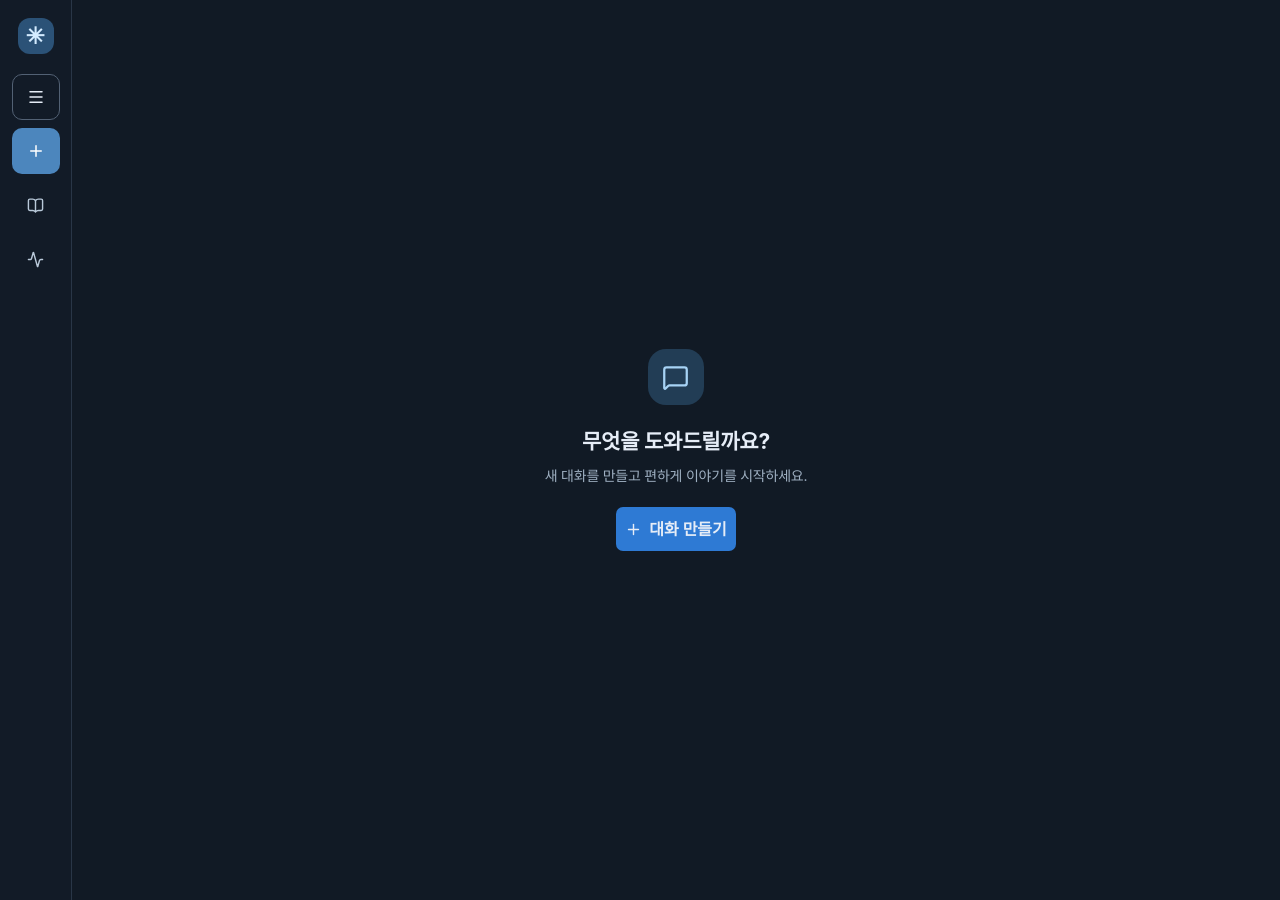
Scenario: opens the mobile navigation drawer and closes it after selecting Wiki
The width and height of the screenshot is (1280, 900).
Click the button named "메뉴 열기" at point(36, 97), box top-left (12, 74), bottom-right (60, 120)
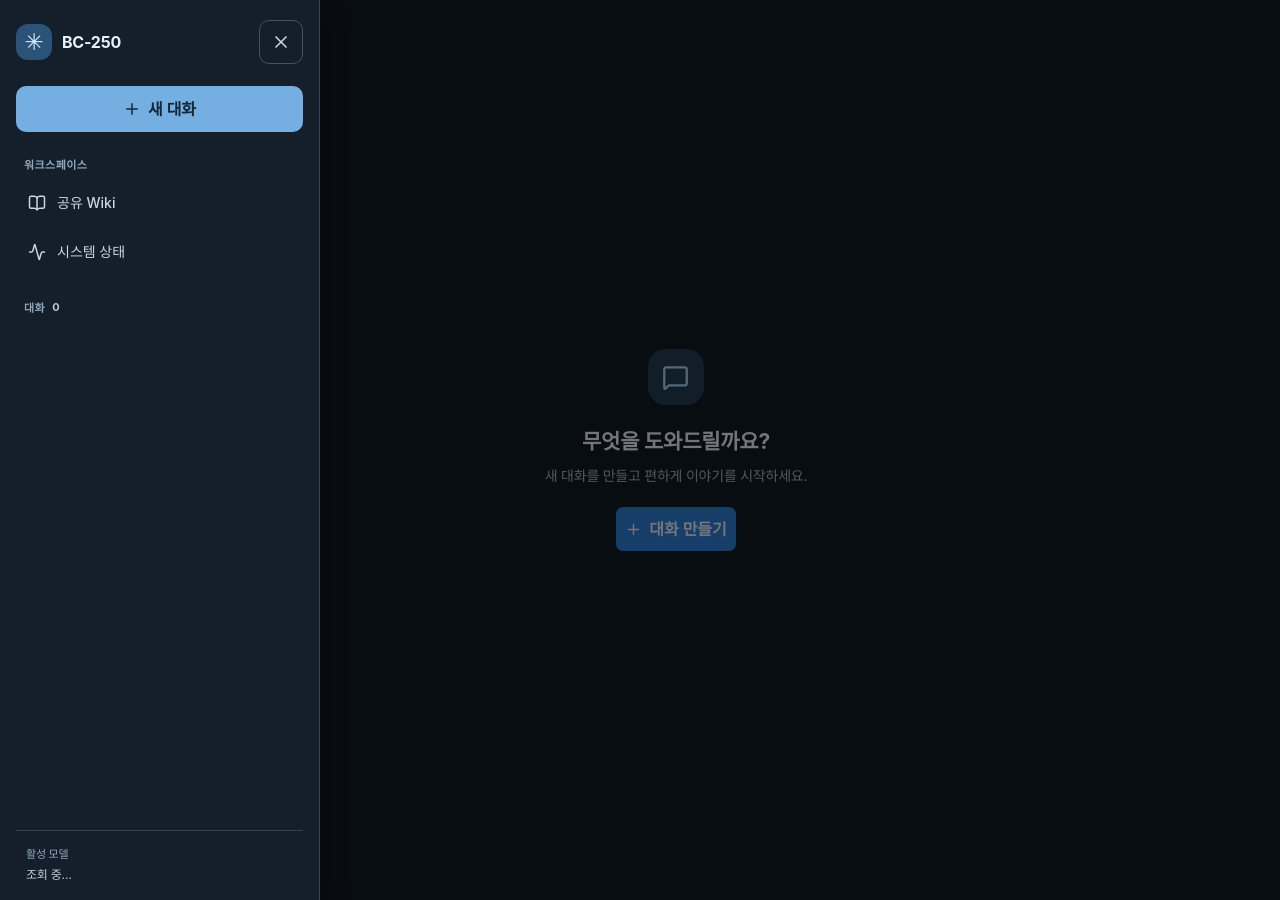
Check: the button named "메뉴 열기" is expanded, box top-left (12, 74), bottom-right (60, 120)
Click the button "공유 Wiki" at point(86, 203), box top-left (16, 180), bottom-right (303, 226)
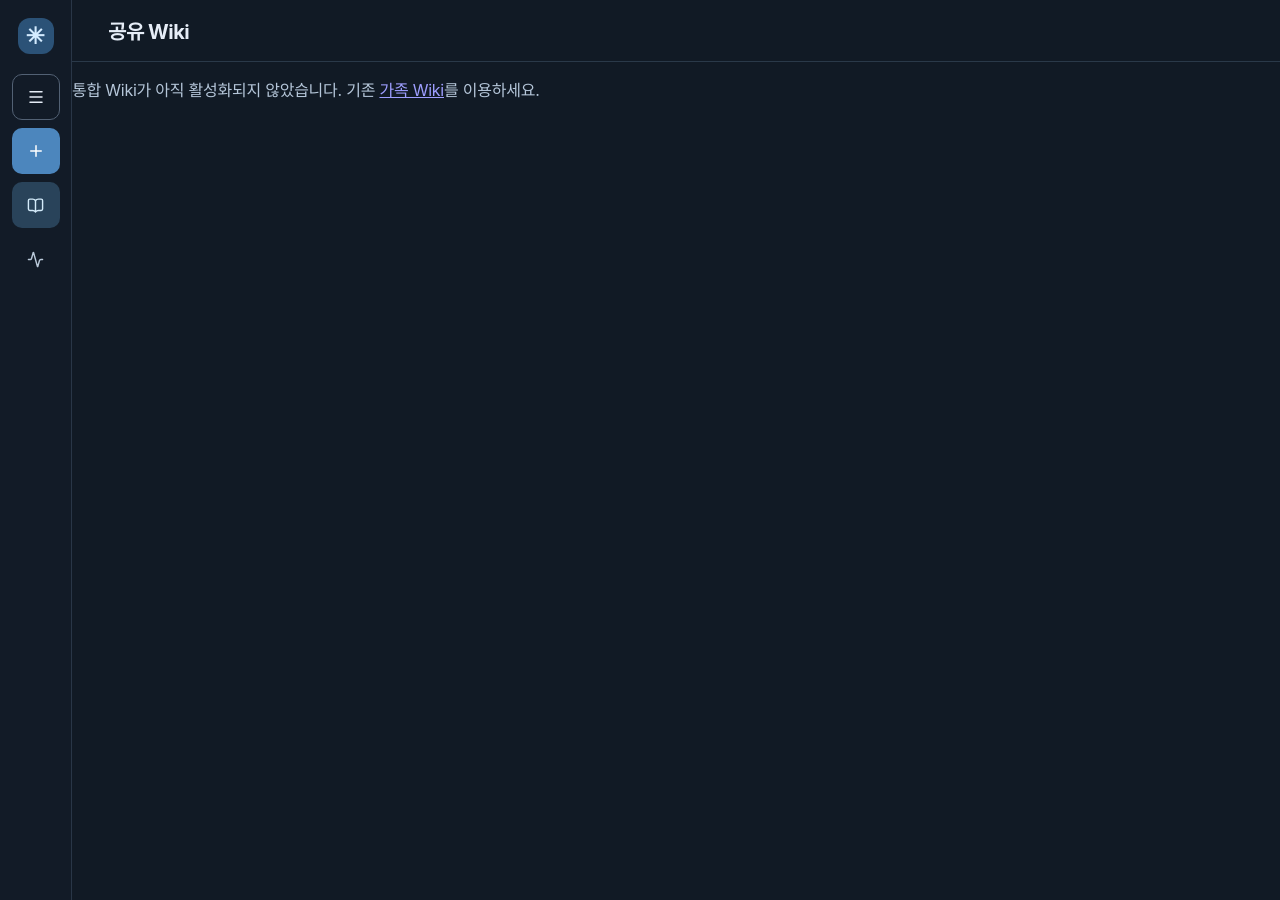
Check: the text "통합 Wiki가 아직 활성화되지 않았습니다. 기존 가족 Wiki 를 이용하세요." is shown, box top-left (72, 80), bottom-right (540, 100)
Check: the button named "메뉴 열기" is collapsed, box top-left (12, 74), bottom-right (60, 120)
